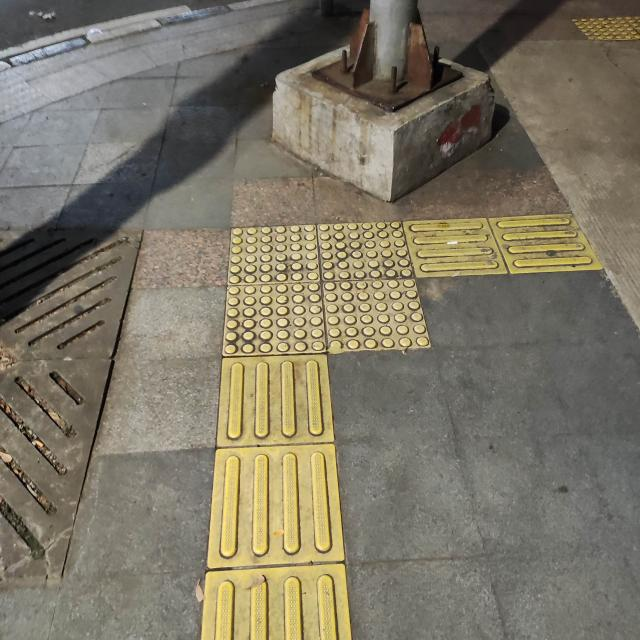kanan: (157, 177, 593, 444)
